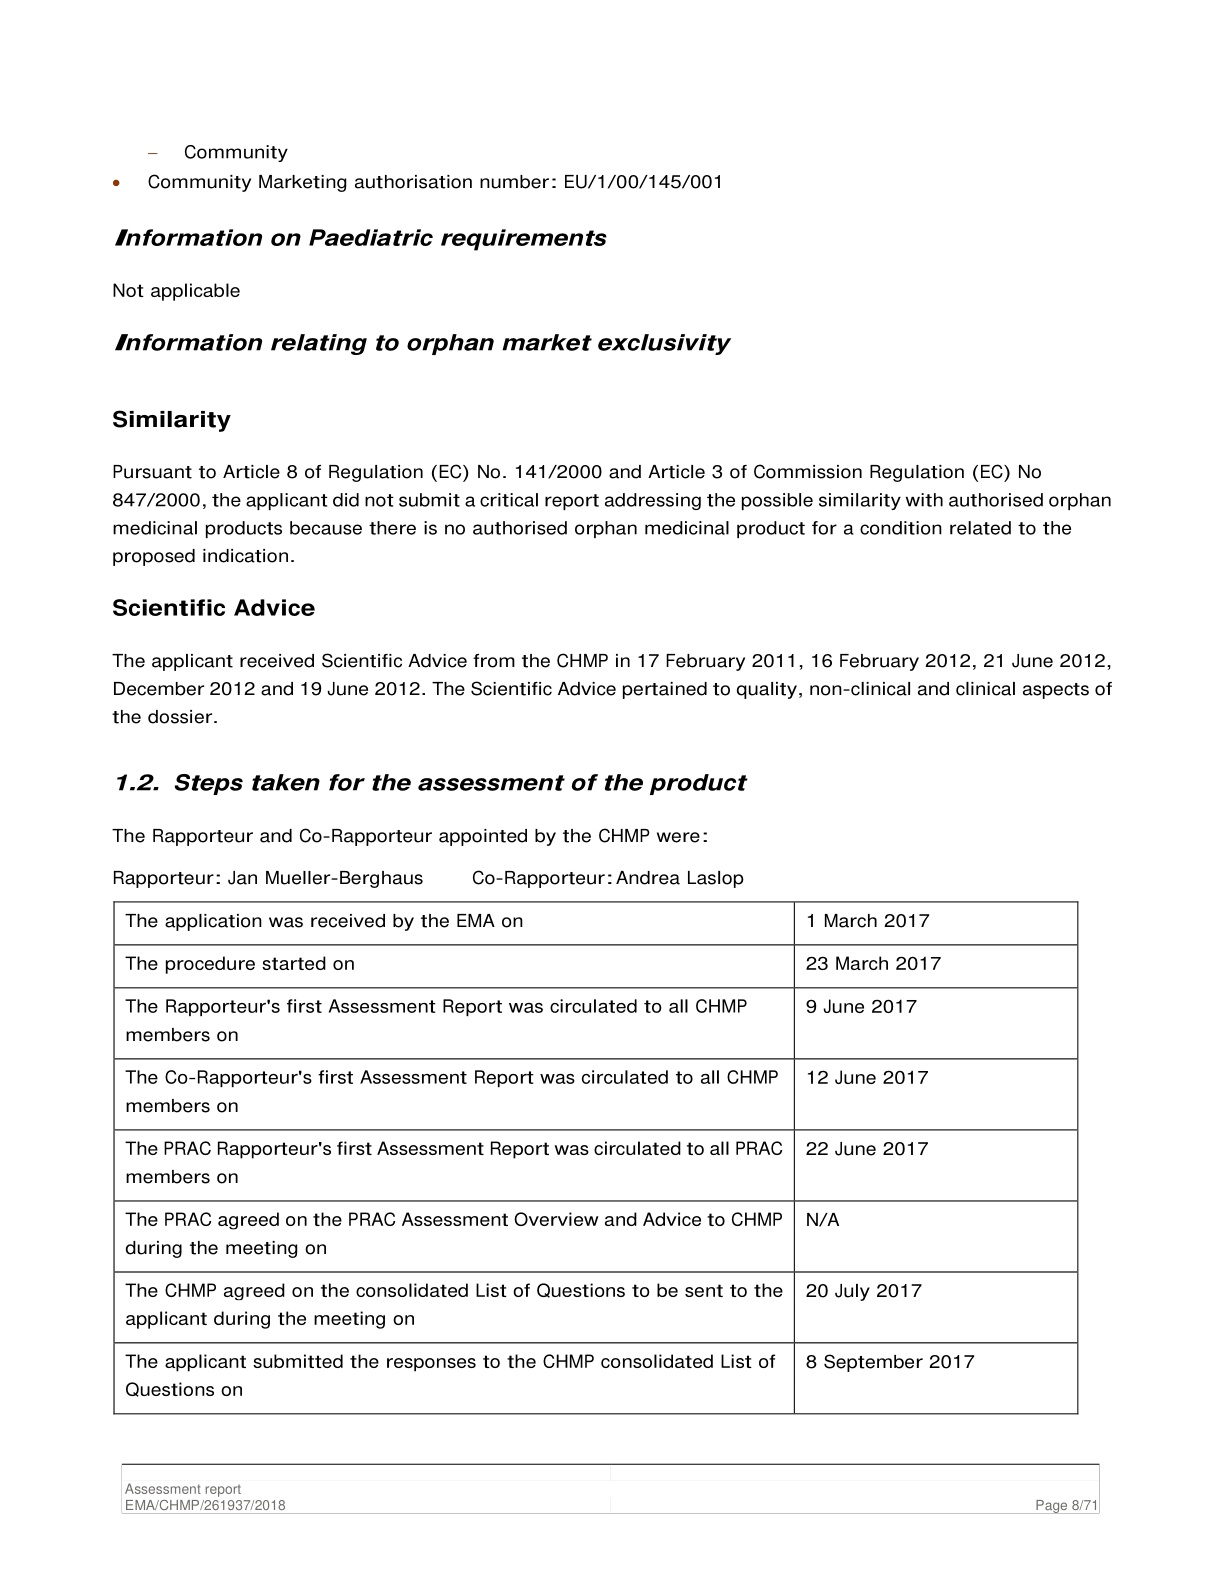full_lined: (112, 901, 1079, 1416)
